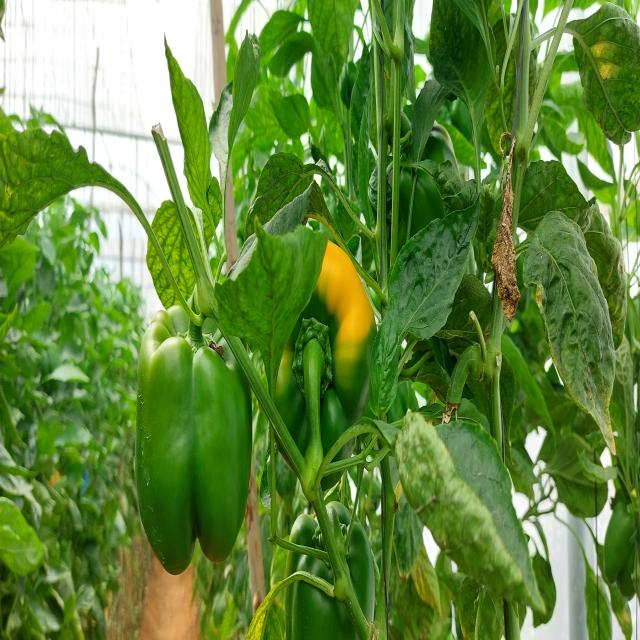Green--Not-ready-to-harvest: (136, 315, 252, 582), (277, 536, 377, 640)
GreenishYellow--Can-be-Harvested: (274, 232, 379, 465)
Red-Ready-to-Harvest: (137, 320, 256, 584), (136, 321, 254, 574)
